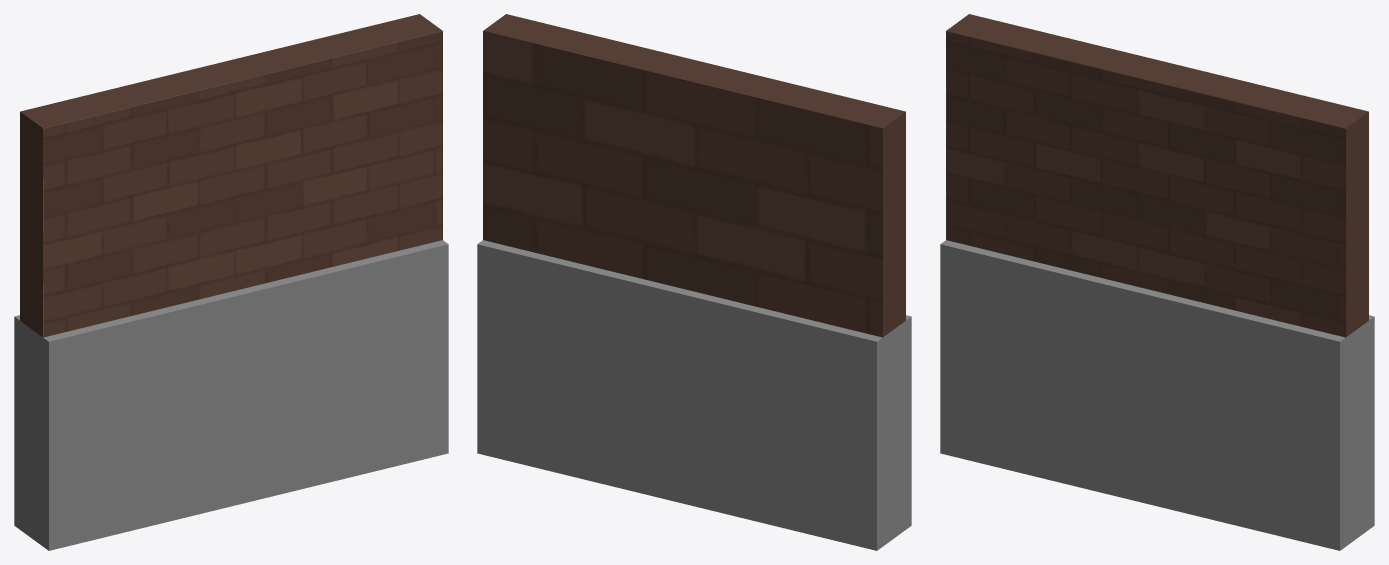
Rendered from Game-Room-Wall-1.fbx.
The picture shows the model from 3 angles, left to right: view 1: azimuth 30°, elevation 25°; view 2: azimuth 150°, elevation 25°; view 3: azimuth 330°, elevation 25°; orthographic projection.
Parts seen in each view (by area): view 1: Game-Room-Wall-1; view 2: Game-Room-Wall-1; view 3: Game-Room-Wall-1.
Boxes of the visible parts, x1,y1,x2,y2 form: Game-Room-Wall-1: (14, 14, 448, 550); Game-Room-Wall-1: (477, 14, 911, 550); Game-Room-Wall-1: (940, 14, 1374, 550).
Size of the model in its own units: 2 by 2 by 0.3.
